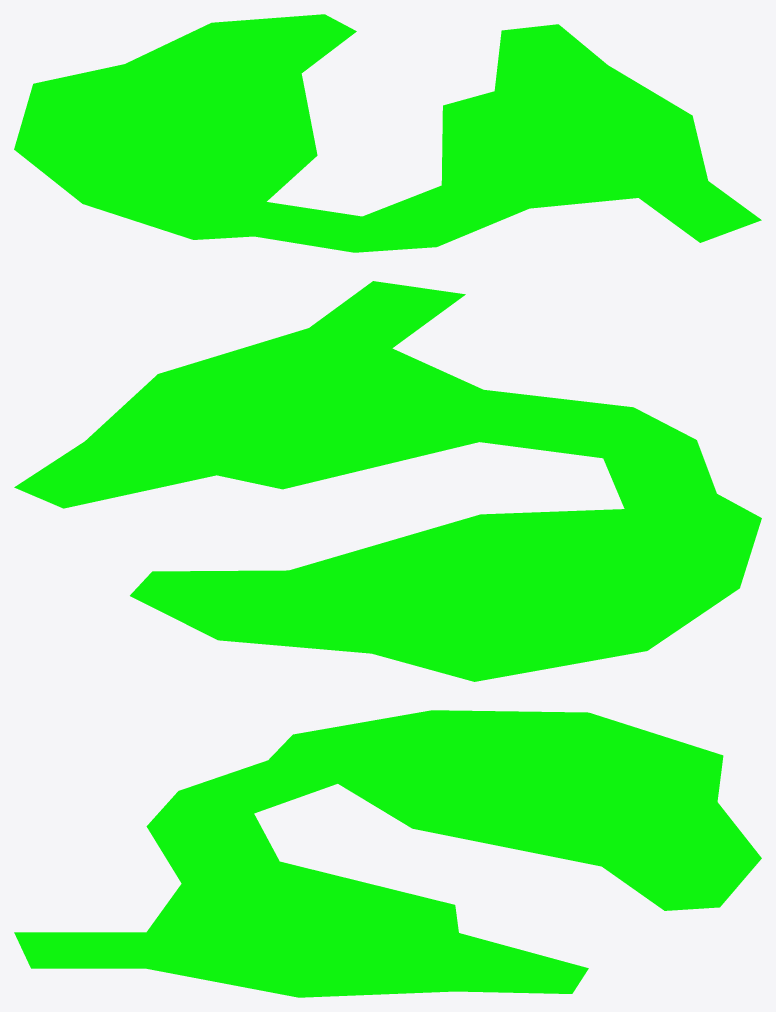
Rendered from s01a_nb2-floor.glb.
3 renders of one model, top to bottom at view 1: azimuth 30°, elevation 25°; view 2: azimuth 150°, elevation 25°; view 3: azimuth 270°, elevation 25°, orthographic. The views are drawn at different scales.
Visible parts, largest first — view 1: collision_floor-colonly; view 2: collision_floor-colonly; view 3: collision_floor-colonly.
Part boxes in pixels (bbox=[...]): collision_floor-colonly: bbox=[14, 14, 761, 252]; collision_floor-colonly: bbox=[14, 281, 761, 681]; collision_floor-colonly: bbox=[14, 710, 761, 997].
Bounding box in the file's own units: 47.16 × 0 × 51.86.
